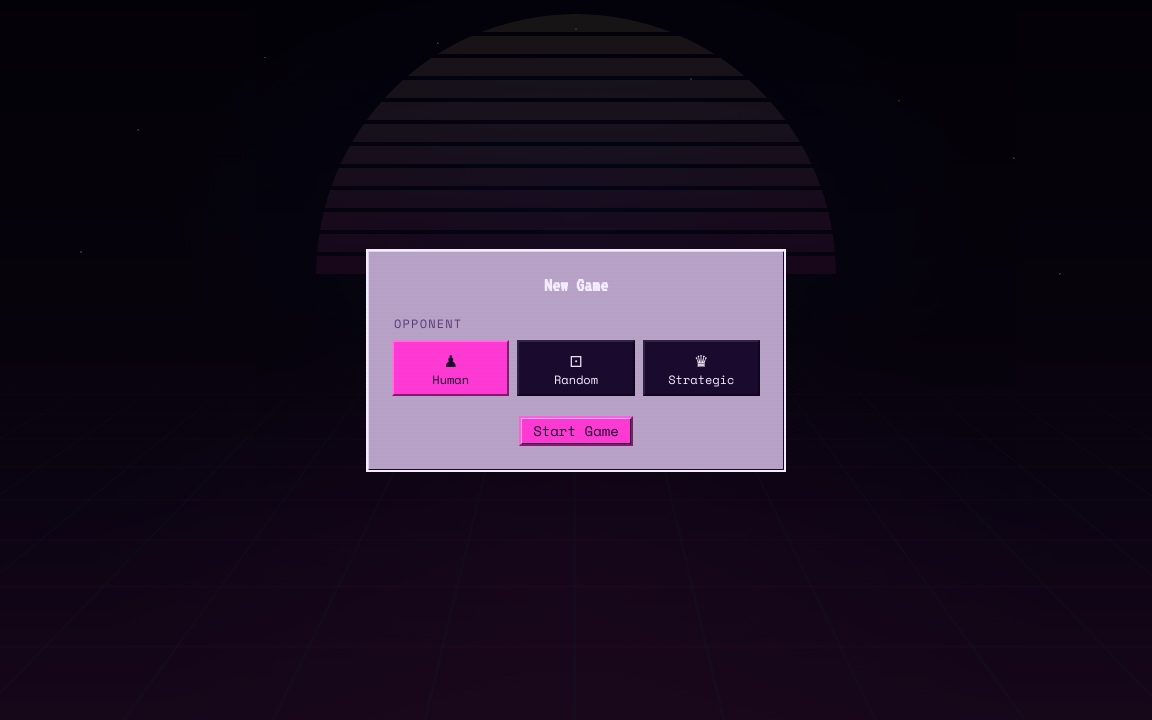
it: Visual Regression — Help Modal (US4) › renders the help modal with Win95 window chrome
This screenshot has width=1152, height=720.
Click the button "Start Game": coordinates (576, 430) [519,416,633,446]
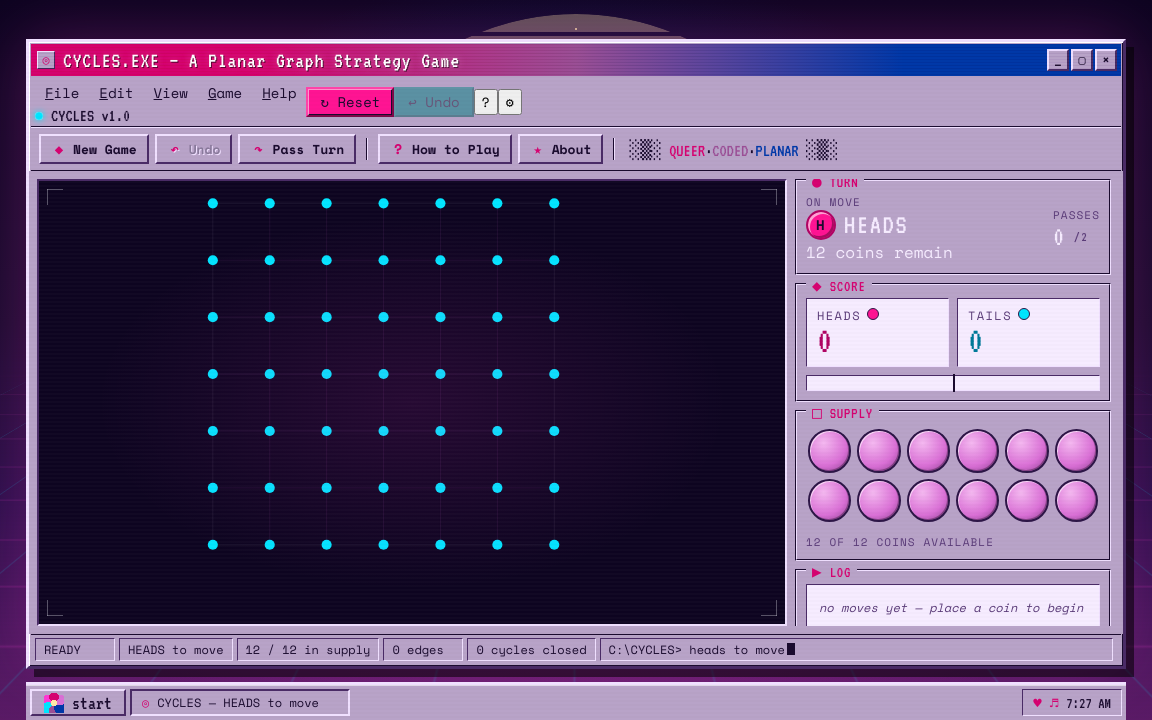
Click the button named "Open help": coordinates (486, 102) [474,89,498,115]
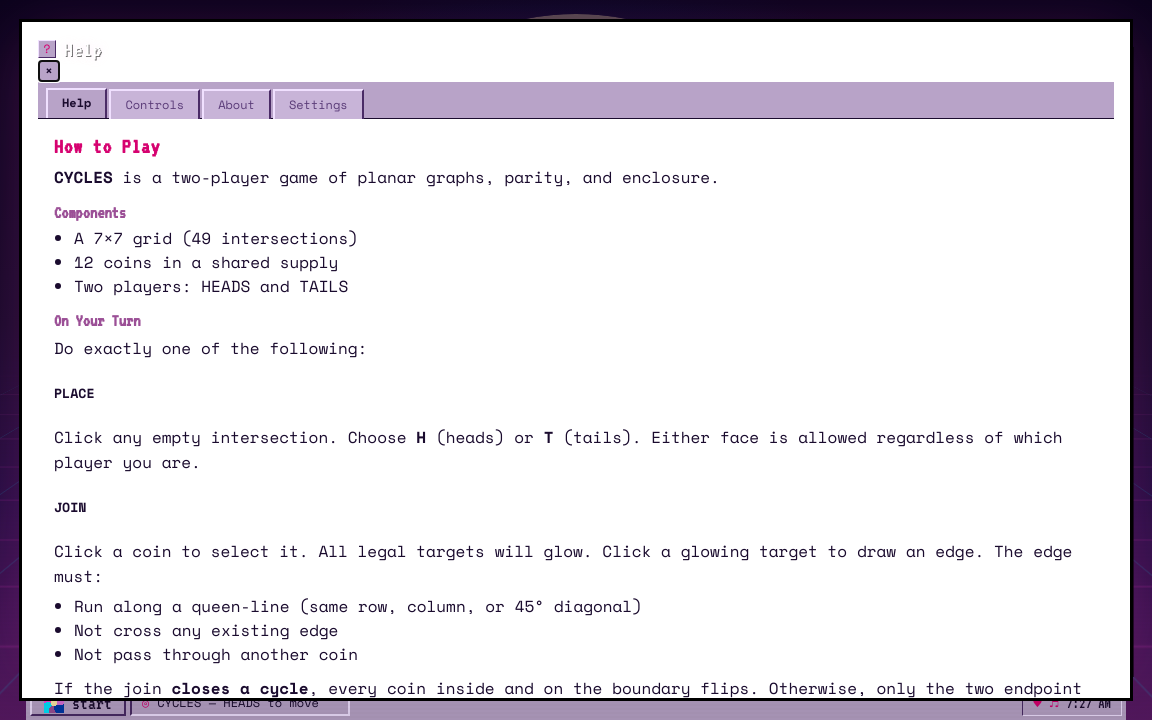
Now the dialog is shown
Now the text with id "modal-title" reads "Help", box [64,38,103,60]
